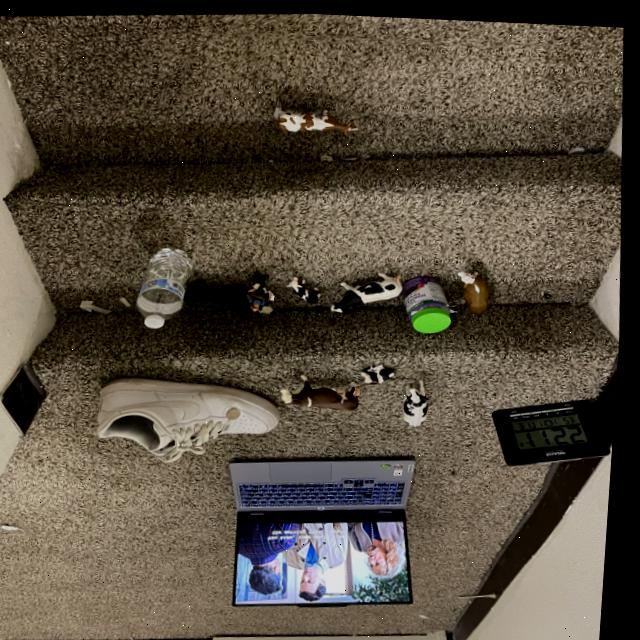cow: (329, 262, 408, 312), (285, 370, 366, 408), (274, 105, 361, 138), (188, 276, 258, 311), (462, 263, 497, 312), (289, 270, 327, 305), (408, 375, 435, 423), (365, 359, 401, 381), (250, 279, 281, 300)
person: (247, 292, 271, 312)
